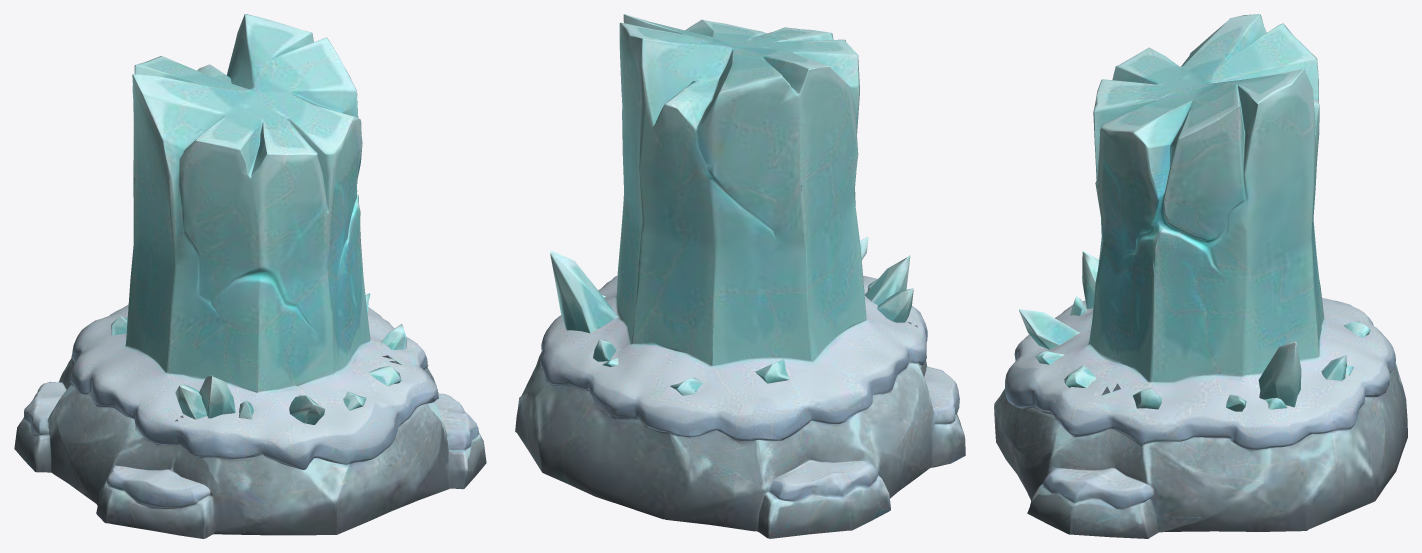
Rendered from pillar_stump_b.glb.
3 renders of one model, left to right at view 1: azimuth 30°, elevation 25°; view 2: azimuth 150°, elevation 25°; view 3: azimuth 270°, elevation 25°, orthographic. The views are drawn at different scales.
Visible parts, largest first — view 1: geometry_0; view 2: geometry_0; view 3: geometry_0.
Boxes of the visible parts, bbox=[...] form: geometry_0: bbox=[14, 14, 486, 538]; geometry_0: bbox=[515, 14, 965, 538]; geometry_0: bbox=[994, 14, 1407, 538].
Size of the model in its own units: 0.894 by 0.9502 by 0.8833.
Materials: 1 (1 with a texture image).
